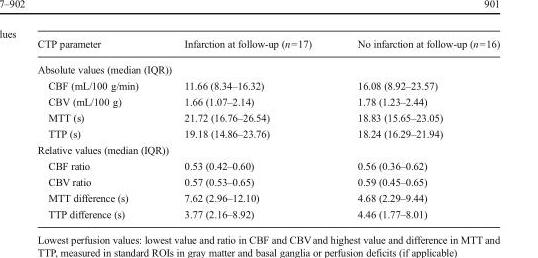table: (36, 37, 499, 219)
table column: (160, 37, 333, 219), (333, 37, 499, 219), (36, 37, 160, 219)
table column header: (36, 37, 499, 56)
table projected row header: (36, 56, 499, 77), (36, 141, 499, 157)
table row: (36, 56, 499, 77), (36, 37, 499, 56), (36, 77, 499, 93), (36, 93, 499, 109), (36, 109, 499, 125), (36, 125, 499, 141), (36, 141, 499, 157), (36, 157, 499, 173), (36, 173, 499, 189), (36, 189, 499, 205), (36, 205, 499, 219)
